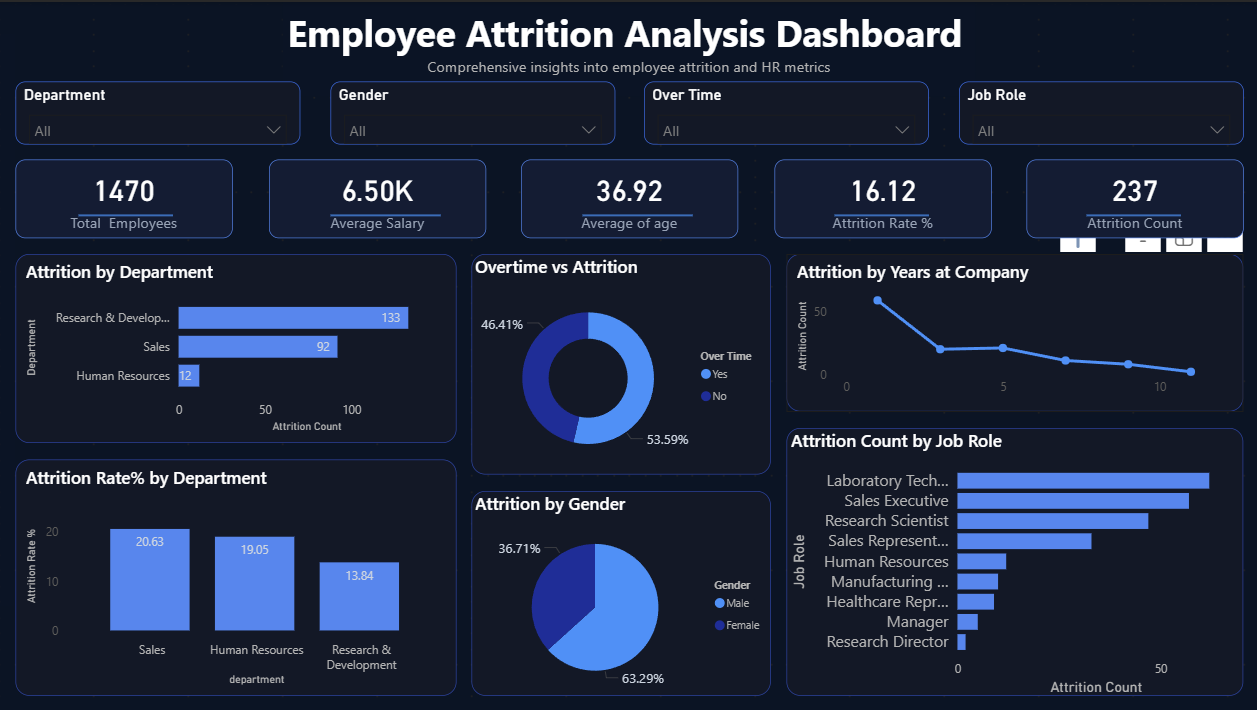

This screenshot's page, from the dashboard's own definition file:
{"tool":"powerbi","page":{"name":"Page 1","canvas":[1280,720],"ordinal":1},"visuals":[{"type":"card","fields":{"Values":["CountNonNull(employee_attrition.employee_id)"]},"box":[16,160,220.7,80],"z":0,"group":"g5"},{"type":"clusteredBarChart","title":"Attrition by Department","fields":{"Category":["employee_attrition.department"],"Y":["Measure Table.Attrition Count"]},"box":[16,256,448,192],"z":0},{"type":"card","fields":{"Values":["Avg(employee_attrition.age)"]},"box":[529.6,160,220.7,80],"z":1000,"group":"g5"},{"type":"columnChart","title":"Attrition Rate% by Department","fields":{"Category":["department_attrition.department"],"Y":["Measure Table.Attrition Rate %"]},"box":[16,464,448,240],"z":1000},{"type":"card","fields":{"Values":["CountNonNull(employee_attrition.employee_id)"]},"box":[1043.3,160,220.7,80],"z":2000,"group":"g5"},{"type":"donutChart","title":"Overtime vs Attrition","fields":{"Category":["employee_attrition.over_time"],"Y":["Sum(employee_attrition.employee_count)"]},"box":[480,256,304,224],"z":2000},{"type":"card","fields":{"Values":["Avg(employee_attrition.monthly_income)"]},"box":[272.8,160,220.7,80],"z":3000,"group":"g5"},{"type":"pieChart","title":"Attrition by Gender","fields":{"Category":["employee_attrition.gender"],"Y":["Sum(employee_attrition.employee_count)"]},"box":[480,496,304,208],"z":3000},{"type":"clusteredBarChart","title":"Attrition Count by Job Role","fields":{"Category":["employee_attrition.job_role"],"Y":["Measure Table.Attrition Count"]},"box":[800,432,464,272],"z":4000},{"type":"lineChart","title":"Attrition by Years at Company","fields":{"Y":["Measure Table.Attrition Count"],"Category":["employee_attrition.years_at_company"]},"box":[800,256,464,160],"z":5000},{"type":"textbox","box":[288,0,704,96],"z":6000},{"type":"group","id":"g1","title":"Group 1","box":[16,80,1248,64],"z":7000},{"type":"group","id":"g2","title":"Group 3","box":[16,160,1248,80],"z":8000},{"type":"card","fields":{"Values":["Measure Table.Attrition Rate %"]},"box":[786.5,160,220.7,80],"z":8000,"group":"g5"},{"type":"shape","box":[80,144,96,144],"z":9000},{"type":"slicer","title":"Gender","fields":{"Values":["employee_attrition.gender"]},"box":[335.6,80,289.3,64],"z":10000,"group":"g4"},{"type":"shape","box":[336,144,112,144],"z":10000},{"type":"slicer","title":"Over Time","fields":{"Values":["employee_attrition.over_time"]},"box":[655.2,80,289.3,64],"z":11000,"group":"g4"},{"type":"shape","box":[592,144,112,144],"z":11000},{"type":"slicer","title":"Job Role","fields":{"Values":["employee_attrition.job_role"]},"box":[974.7,80,289.3,64],"z":12000,"group":"g4"},{"type":"shape","box":[848,144,96,144],"z":12000},{"type":"shape","box":[1104,144,96,144],"z":13000},{"type":"group","id":"g3","title":"Group 2","box":[16,80,1248,64],"z":13001,"group":"g1"},{"type":"group","id":"g4","title":"Group 4","box":[16,80,1248,64],"z":13001,"group":"g3"},{"type":"group","id":"g5","title":"Group 5","box":[16,160,1248,80],"z":13001,"group":"g2"},{"type":"slicer","title":"Department","fields":{"Values":["employee_attrition.department"]},"box":[16,80,289.3,64],"z":15000,"group":"g4"}]}

Visuals, with their boxes in screenshot pixels (x1, y1, x2, y2), scaled from the page's 1280x720 canvas onto the 1257x710 screenshot:
card - CountNonNull(employee_attrition.employee_id): detection(16, 158, 232, 237)
"Attrition by Department" clusteredBarChart: detection(16, 252, 456, 442)
card - Avg(employee_attrition.age): detection(520, 158, 737, 237)
"Attrition Rate% by Department" columnChart: detection(16, 458, 456, 694)
card - CountNonNull(employee_attrition.employee_id): detection(1025, 158, 1241, 237)
"Overtime vs Attrition" donutChart: detection(471, 252, 770, 473)
card - Avg(employee_attrition.monthly_income): detection(268, 158, 485, 237)
"Attrition by Gender" pieChart: detection(471, 489, 770, 694)
"Attrition Count by Job Role" clusteredBarChart: detection(786, 426, 1241, 694)
"Attrition by Years at Company" lineChart: detection(786, 252, 1241, 410)
textbox: detection(283, 0, 974, 95)
"Group 1" group: detection(16, 79, 1241, 142)
"Group 3" group: detection(16, 158, 1241, 237)
card - Measure Table.Attrition Rate %: detection(772, 158, 989, 237)
shape: detection(79, 142, 173, 284)
"Gender" slicer: detection(330, 79, 614, 142)
shape: detection(330, 142, 440, 284)
"Over Time" slicer: detection(643, 79, 928, 142)
shape: detection(581, 142, 691, 284)
"Job Role" slicer: detection(957, 79, 1241, 142)
shape: detection(833, 142, 927, 284)
shape: detection(1084, 142, 1178, 284)
"Group 2" group: detection(16, 79, 1241, 142)
"Group 4" group: detection(16, 79, 1241, 142)
"Group 5" group: detection(16, 158, 1241, 237)
"Department" slicer: detection(16, 79, 300, 142)
